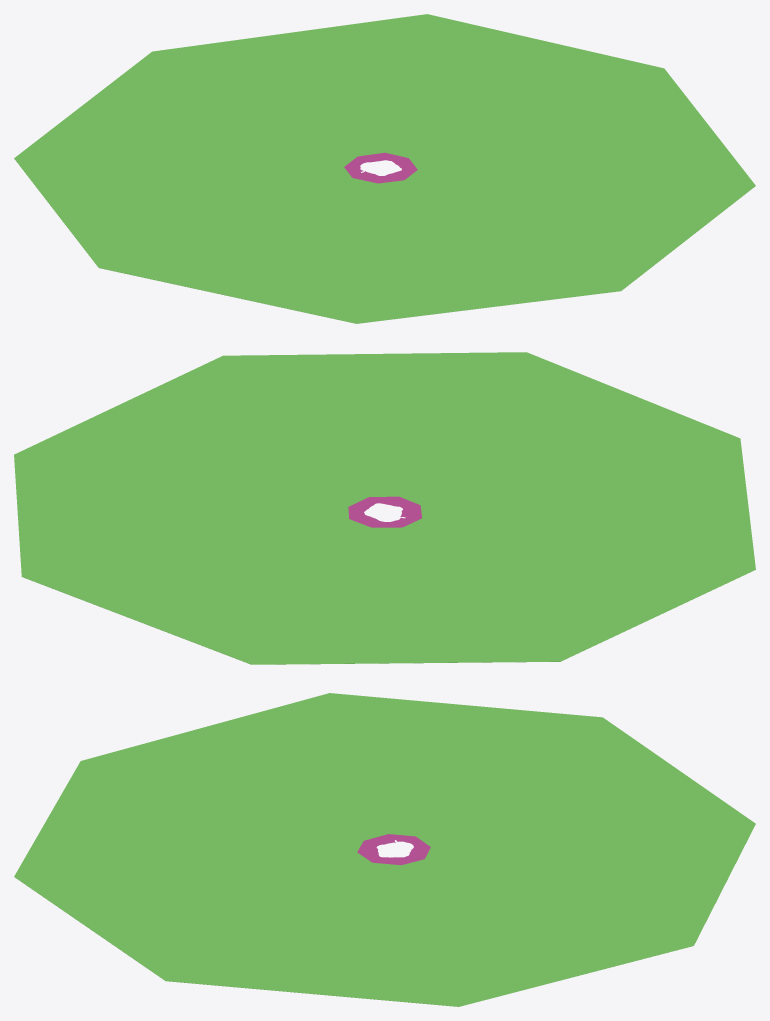
The model's file is level_collision_water.fbx.
The picture shows the model from 3 angles, top to bottom: view 1: azimuth 30°, elevation 25°; view 2: azimuth 150°, elevation 25°; view 3: azimuth 270°, elevation 25°; orthographic projection. The views are drawn at different scales.
Parts seen in each view (by area): view 1: level_collision_water; view 2: level_collision_water; view 3: level_collision_water.
Part boxes in pixels (x1,y1,x2,y2): level_collision_water: [14, 14, 755, 323]; level_collision_water: [14, 352, 755, 664]; level_collision_water: [14, 693, 755, 1006].
Bounding box in the file's own units: 2.73e+07 × 6456 × 2.73e+07.
